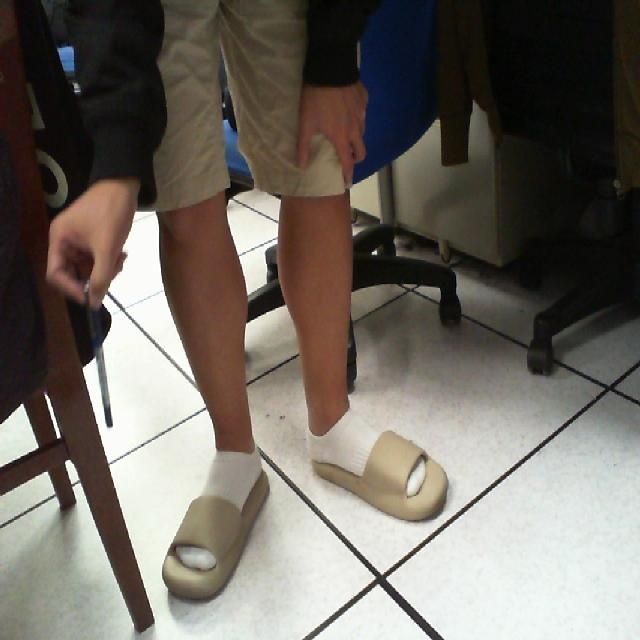Pen: (74, 269, 134, 457)
